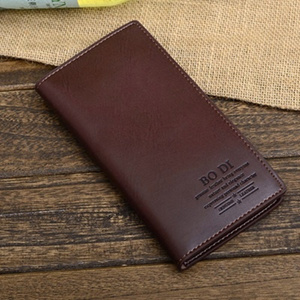monedero: (33, 18, 289, 275)
